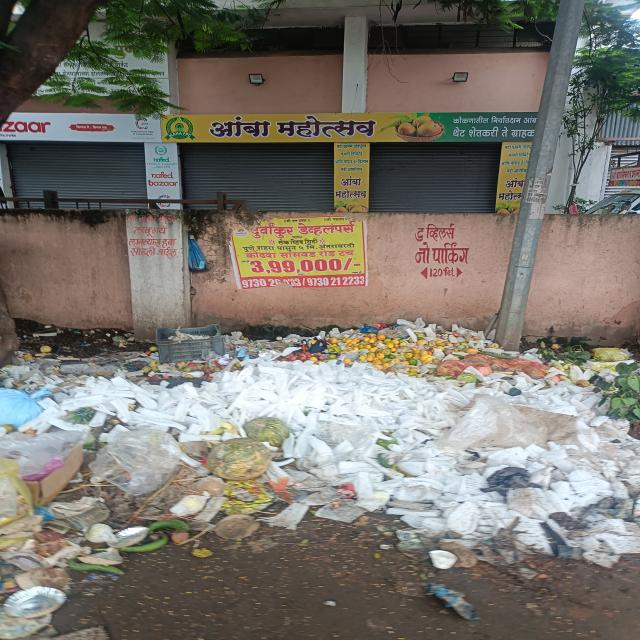garbage: (0, 326, 640, 589)
